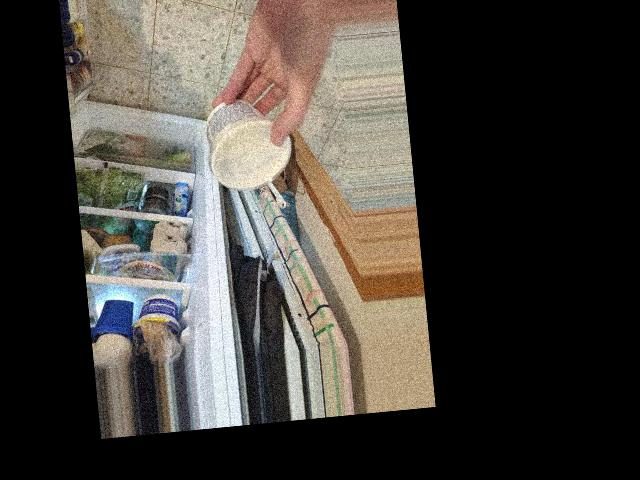cotage: (208, 102, 286, 192)
